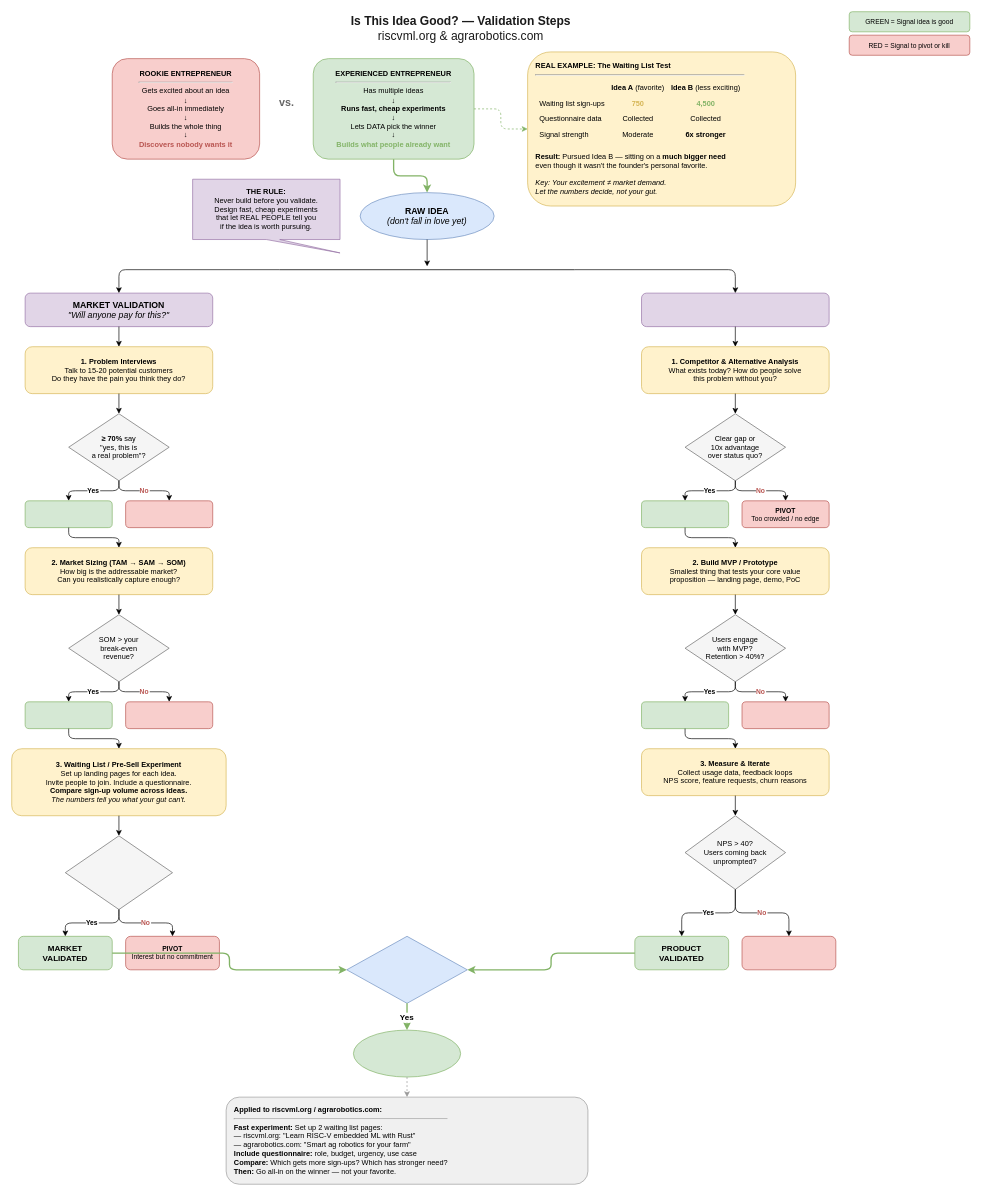
The diagram is 982 pixels wide and 1196 high, and some of its shapes have lost their labels. The box of each missing label's shape, as (x1, y1, x2, y2) in pixels:
BOTH VALIDATED?: (346, 936, 467, 1003)
GO Differentiation exists: (641, 500, 729, 528)
GO Market is big enough: (24, 701, 112, 729)
GO Problem confirmed: (24, 500, 112, 528)
GO Users want this: (641, 701, 729, 729)
Got strong sign-up volume? Questionnaire data confirms need?: (65, 835, 173, 910)
IDEA IS GOOD Now go all-in.: (353, 1029, 461, 1077)
ITERATE Go back to Step 2: (741, 936, 836, 970)
PIVOT Niche too small: (125, 701, 213, 729)
PIVOT Wrong problem: (125, 500, 213, 528)
PIVOT Wrong solution shape: (741, 701, 829, 729)
PRODUCT VALIDATION "Can we build something they want?": (641, 292, 829, 327)
